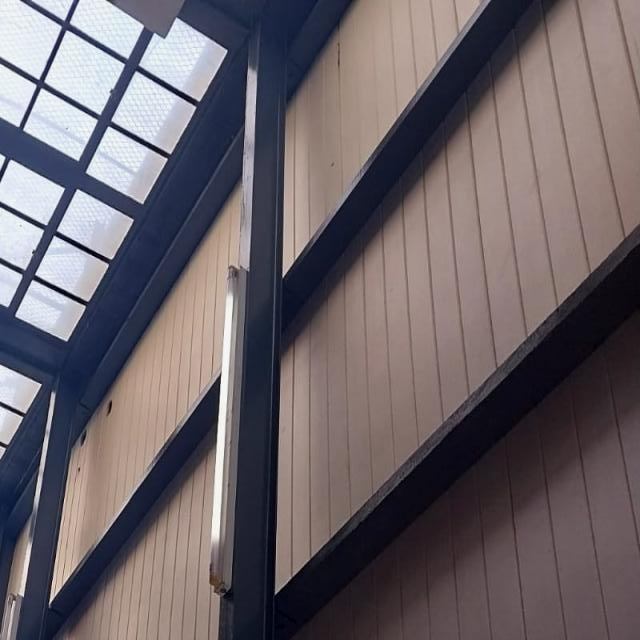fluorescent tube: (182, 218, 262, 618), (0, 573, 27, 640)
